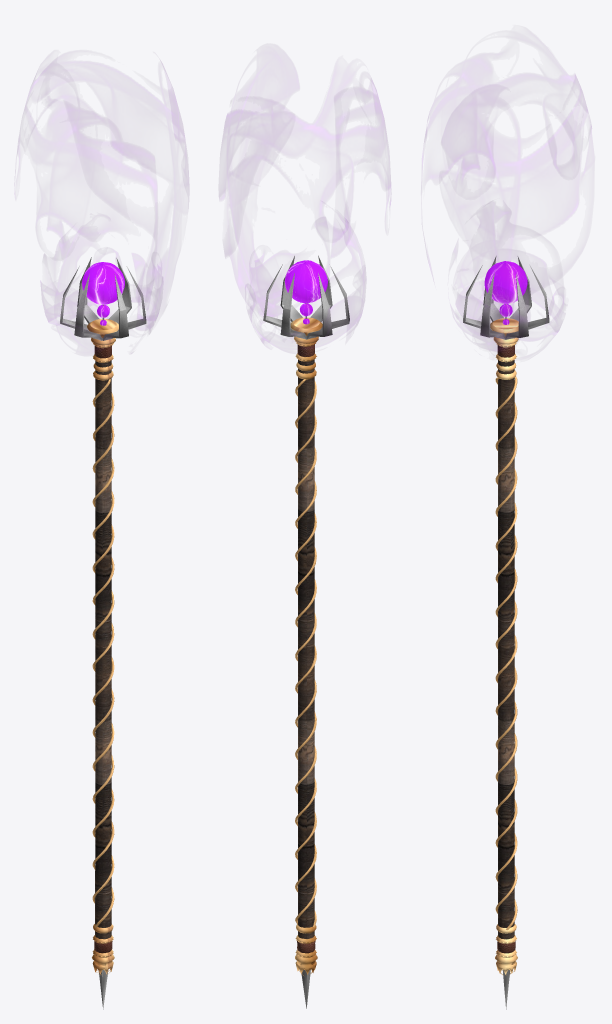
The model's file is Cetro_Magico.glb.
The picture shows the model from 3 angles, left to right: view 1: azimuth 30°, elevation 25°; view 2: azimuth 150°, elevation 25°; view 3: azimuth 270°, elevation 25°; orthographic projection.
Parts seen in each view (by area): view 1: Cylinder004_Material #24_0; view 2: Cylinder004_Material #24_0; view 3: Cylinder004_Material #24_0.
Boxes of the visible parts, x1=… form: Cylinder004_Material #24_0: x1=17, y1=61, x2=188, y2=1009; Cylinder004_Material #24_0: x1=222, y1=80, x2=390, y2=1008; Cylinder004_Material #24_0: x1=425, y1=75, x2=591, y2=1009.
Size of the model in its own units: 0.1582 by 1 by 0.1624.
Materials: 6 (5 with a texture image).
